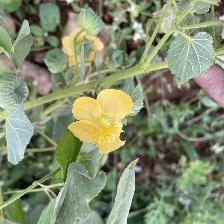indian mallow: (69, 90, 137, 152)
